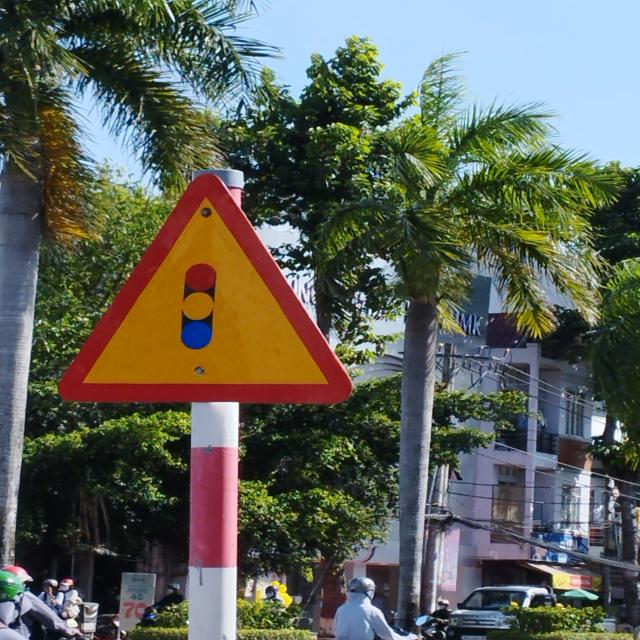Duong_Co_Go_Giam_Toc: (57, 172, 354, 404)
